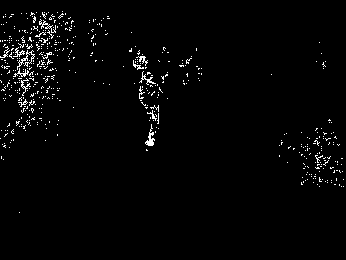person: (135, 71, 165, 146)
